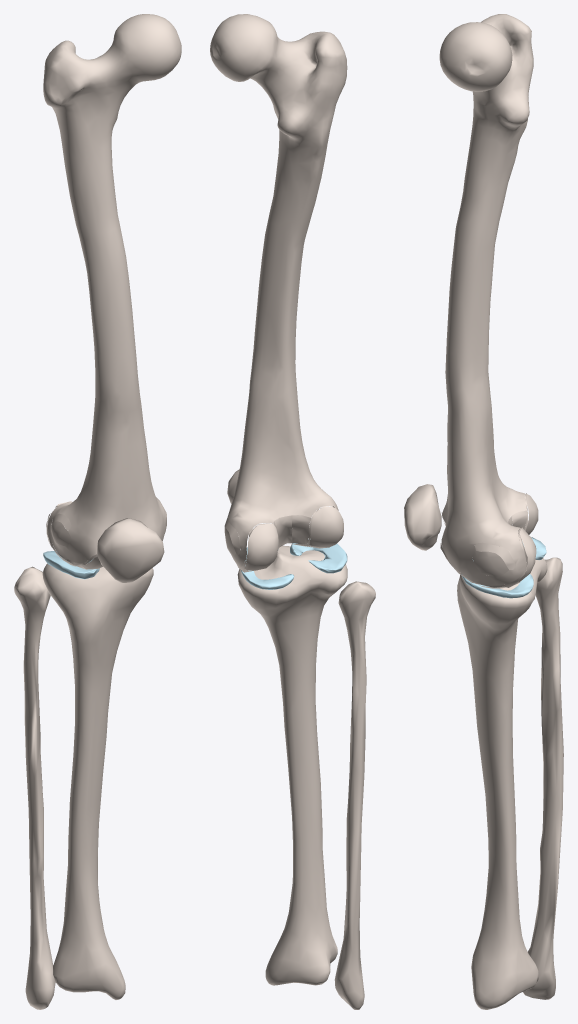
Rendered from vh_f_knee_r-40.glb.
3 views of the same model, side by side, from view 1: azimuth 30°, elevation 25°; view 2: azimuth 210°, elevation 25°; view 3: azimuth 270°, elevation 25° (orthographic). The views are drawn at different scales.
Visible parts, largest first — view 1: VH_F_femur_R, VH_F_tibia_R, VH_F_fibula_R, VH_F_patella_R, VH_F_meniscus_R; view 2: VH_F_femur_R, VH_F_tibia_R, VH_F_fibula_R, VH_F_meniscus_R, VH_F_medial_condyle_of_right_femur_inf, VH_F_lateral_condyle_of_femur_inf_R, VH_F_anterior_cruciate_enthesis_R, VH_F_posterior_cruciate_enthesis_R; view 3: VH_F_femur_R, VH_F_tibia_R, VH_F_fibula_R, VH_F_patella_R, VH_F_meniscus_R, VH_F_medial_perichondular_surface_R, VH_F_articular_cartilage_of_knee_R, VH_F_medial_condyle_of_right_femur_inf, VH_F_medial_epicondylar_enthesis_R.
Part boxes in pixels (left/top/right/bottom): VH_F_femur_R: left=43, top=14, right=181, bottom=562; VH_F_tibia_R: left=42, top=563, right=153, bottom=999; VH_F_fibula_R: left=14, top=566, right=55, bottom=1009; VH_F_patella_R: left=96, top=518, right=164, bottom=582; VH_F_meniscus_R: left=43, top=551, right=99, bottom=579; VH_F_femur_R: left=210, top=14, right=347, bottom=567; VH_F_tibia_R: left=237, top=545, right=347, bottom=985; VH_F_fibula_R: left=334, top=581, right=375, bottom=1009; VH_F_meniscus_R: left=241, top=539, right=347, bottom=589; VH_F_medial_condyle_of_right_femur_inf: left=244, top=524, right=278, bottom=570; VH_F_lateral_condyle_of_femur_inf_R: left=309, top=506, right=343, bottom=547; VH_F_anterior_cruciate_enthesis_R: left=292, top=515, right=311, bottom=544; VH_F_posterior_cruciate_enthesis_R: left=274, top=515, right=292, bottom=547; VH_F_femur_R: left=439, top=14, right=533, bottom=585; VH_F_tibia_R: left=457, top=558, right=547, bottom=1009; VH_F_fibula_R: left=523, top=557, right=563, bottom=999; VH_F_patella_R: left=404, top=484, right=441, bottom=550; VH_F_meniscus_R: left=461, top=537, right=546, bottom=598; VH_F_medial_perichondular_surface_R: left=472, top=551, right=508, bottom=576; VH_F_articular_cartilage_of_knee_R: left=440, top=493, right=528, bottom=587; VH_F_medial_condyle_of_right_femur_inf: left=518, top=527, right=536, bottom=581; VH_F_medial_epicondylar_enthesis_R: left=474, top=542, right=515, bottom=569.
Bounding box in the file's own units: 0.1016 × 0.772 × 0.1104.
